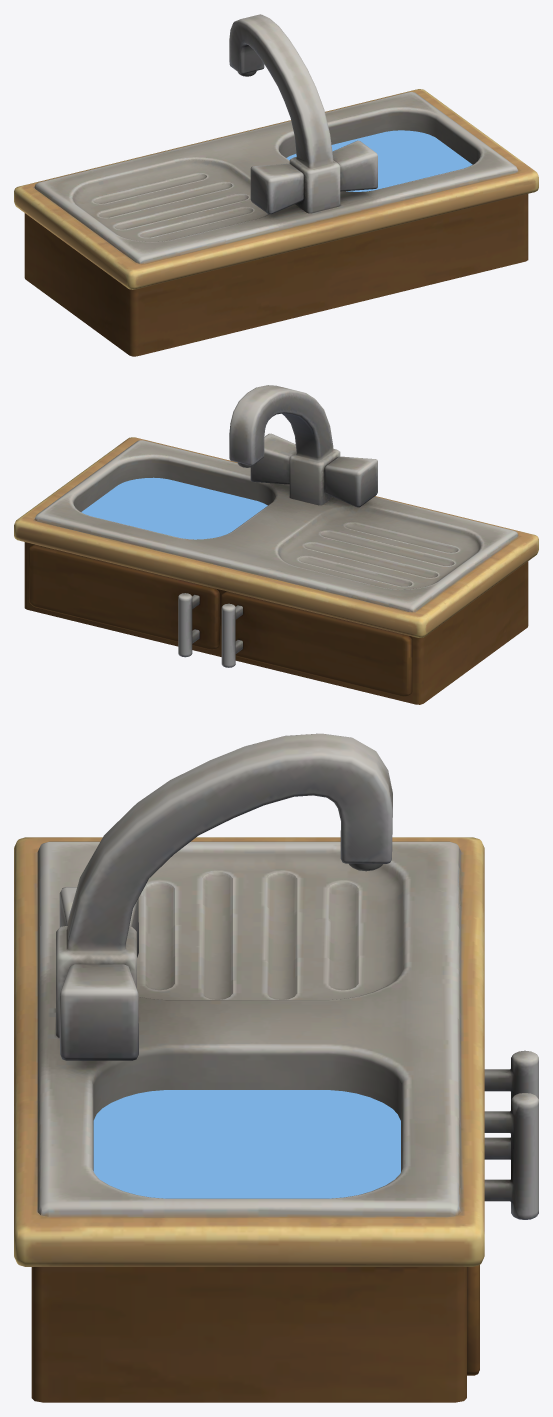
The model's file is m_sk_sink_01.fbx.
3 renders of one model, top to bottom at view 1: azimuth 30°, elevation 25°; view 2: azimuth 150°, elevation 25°; view 3: azimuth 270°, elevation 25°, orthographic. The views are drawn at different scales.
Parts seen in each view (by area): view 1: m_sk_sink_01_0.001, Plane; view 2: m_sk_sink_01_0.001, Plane; view 3: m_sk_sink_01_0.001, Plane.
Part boxes in pixels (x1=…): m_sk_sink_01_0.001: x1=14, y1=14, x2=538, y2=356; Plane: x1=286, y1=130, x2=472, y2=191; m_sk_sink_01_0.001: x1=14, y1=385, x2=538, y2=704; Plane: x1=81, y1=477, x2=267, y2=539; m_sk_sink_01_0.001: x1=14, y1=733, x2=538, y2=1402; Plane: x1=93, y1=1090, x2=400, y2=1198.
Bounding box in the file's own units: 2.4 × 1.31 × 1.34.
Materials: 2 (2 with a texture image).
